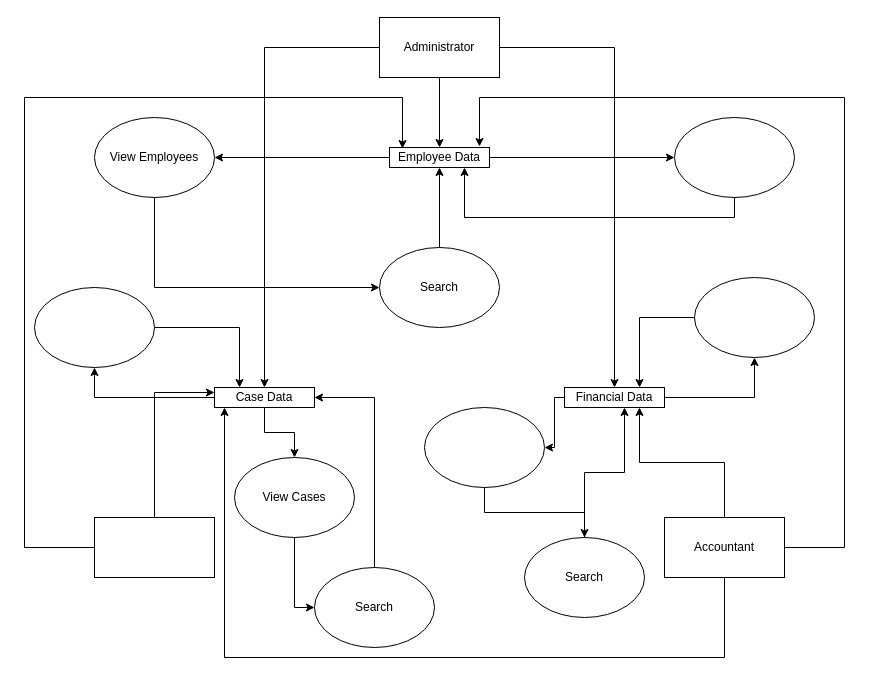
Some shapes in this 870 by 683 pixel diagram are drawn without their labels. The centre of each missing label's shape, as x and y in pixels:
"Bailiff/Lawyer" belongs at point (154, 547).
"Update/Delete Cases" belongs at point (94, 327).
"Update/Delete Employees" belongs at point (734, 157).
"Update/Delete Financial Records" belongs at point (754, 317).
"View Financial Records" belongs at point (484, 447).
